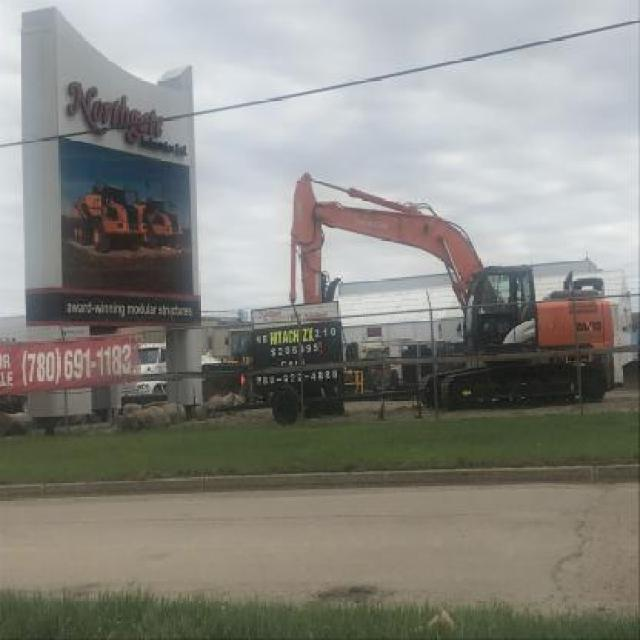Excavator: (289, 162, 620, 408)
